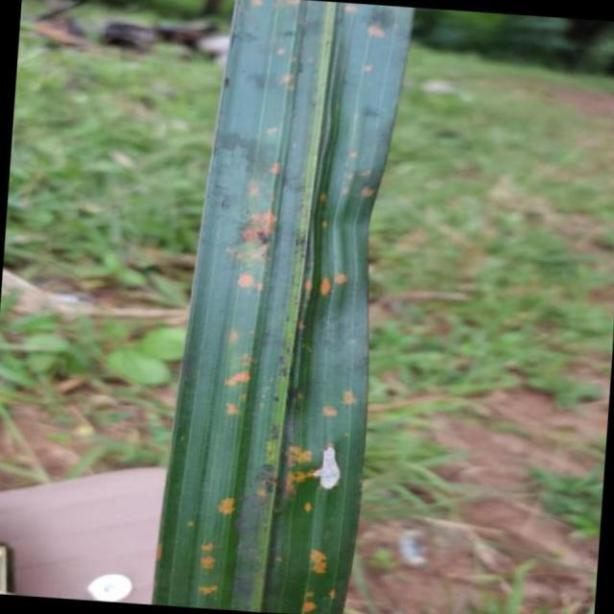Kalium: (150, 0, 414, 614)
